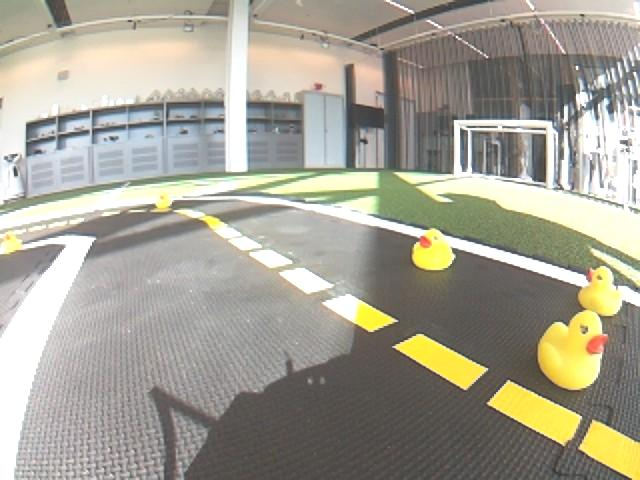Duckies: (538, 314, 606, 391), (575, 265, 624, 315), (414, 227, 455, 270), (0, 233, 22, 252), (154, 195, 172, 210)
